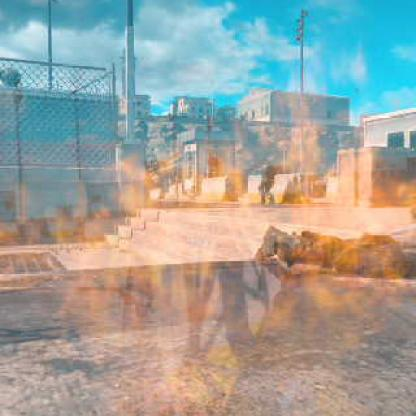enemy: (255, 162, 278, 206)
